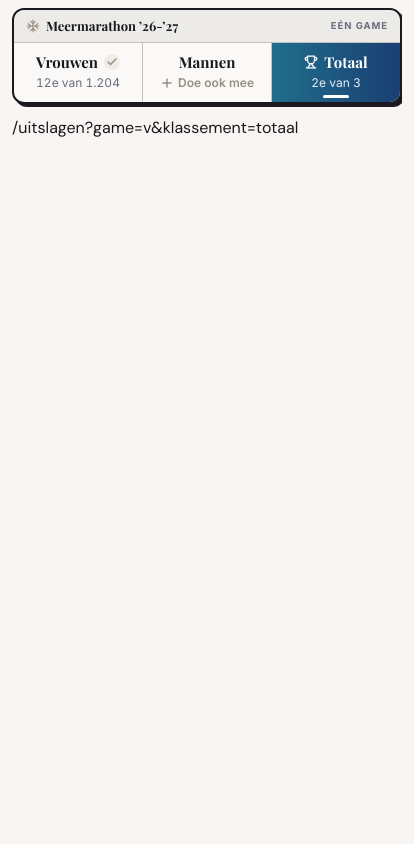
it: pelotonbalk met data › verlaat het totaal zodra je een peloton kiest
Click the button "Mannen Doe ook mee".
click(208, 72)  # box [143,42,272,102]
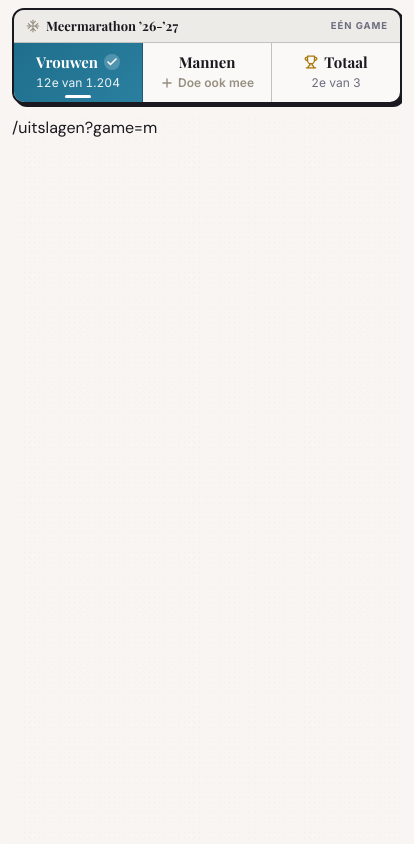
Expected: the text with test id "adres" reads "/uitslagen?game=m", [12,117,157,138]
Expected: the text with test id "adres" no longer shows "klassement", [12,117,157,138]
